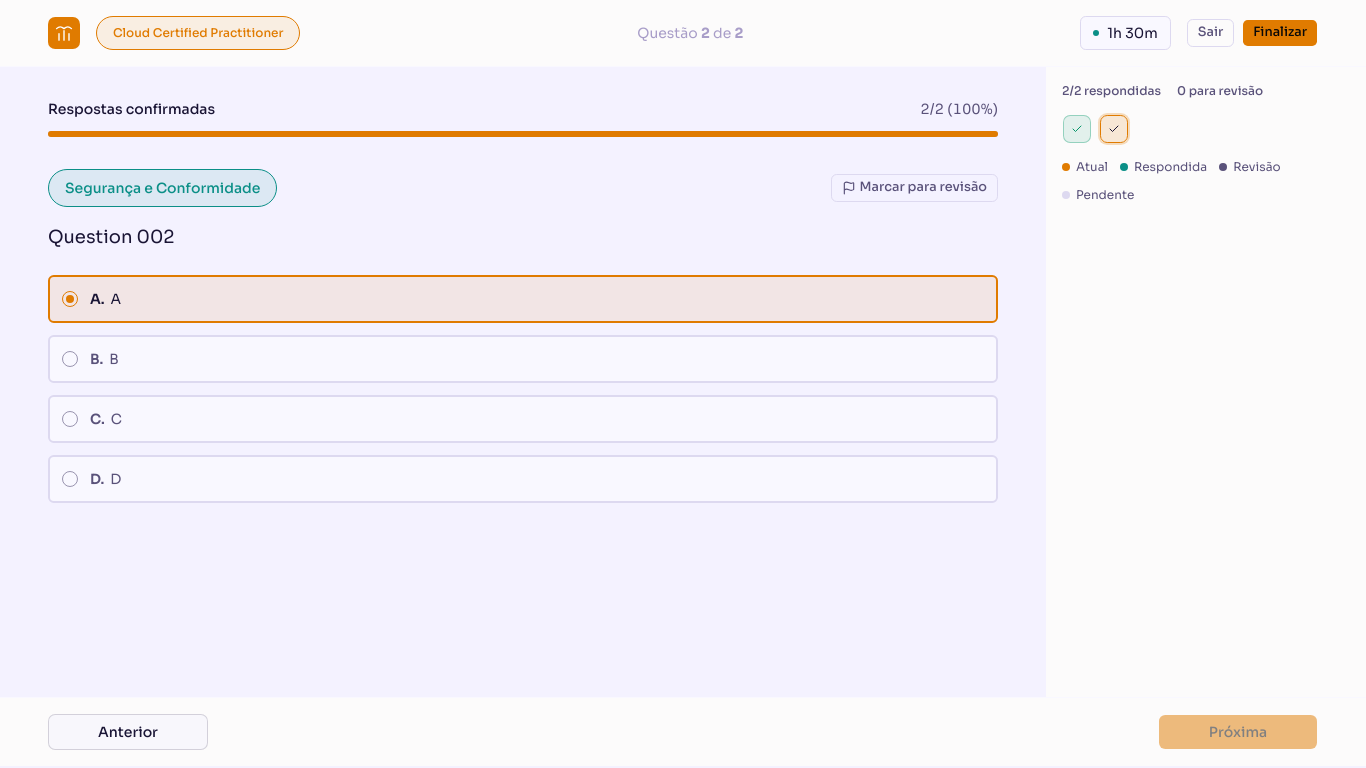
Test case: QuizLayout › permite alterar resposta anterior em modo simulado
This screenshot has width=1366, height=768.
Click the button "Anterior" at (128, 732), box [48,714,208,750]
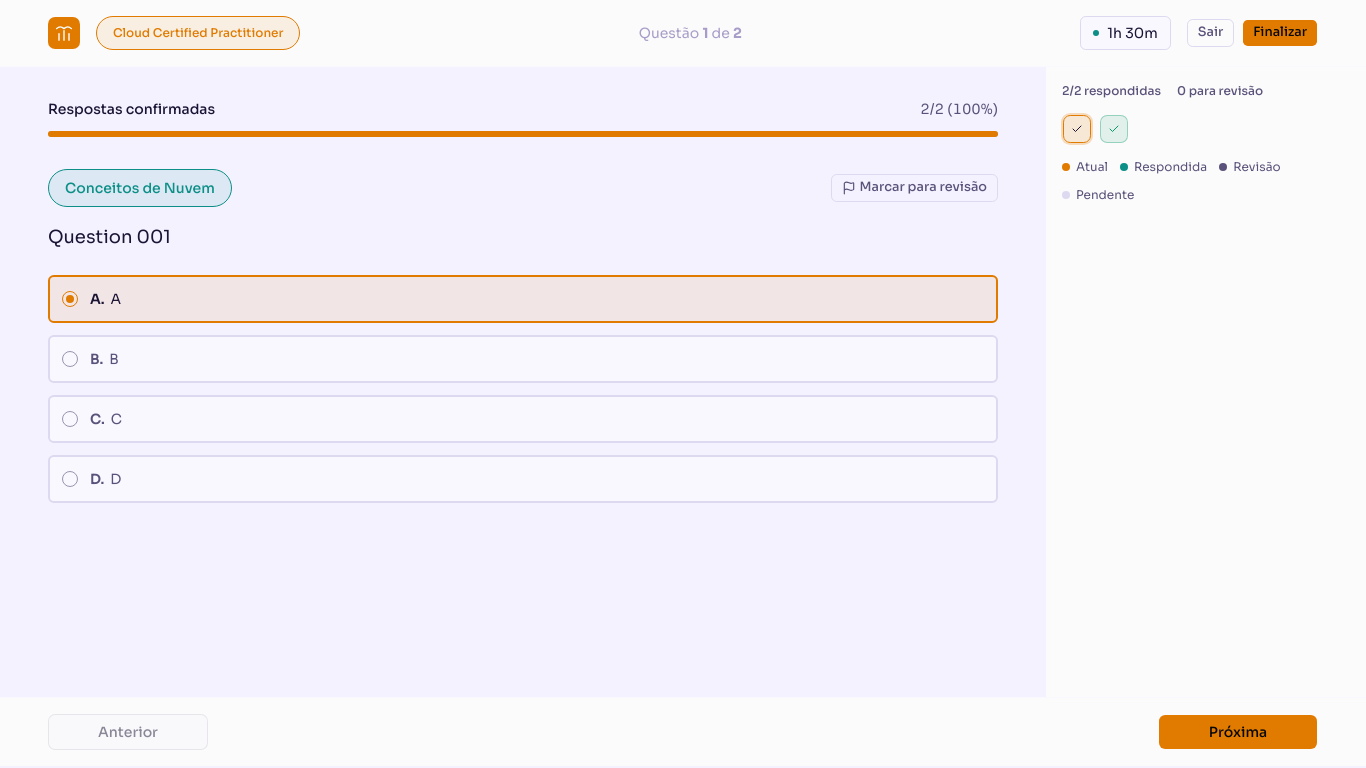
Click the radio button labelled "b. B" at (70, 359), box [48,335,998,383]
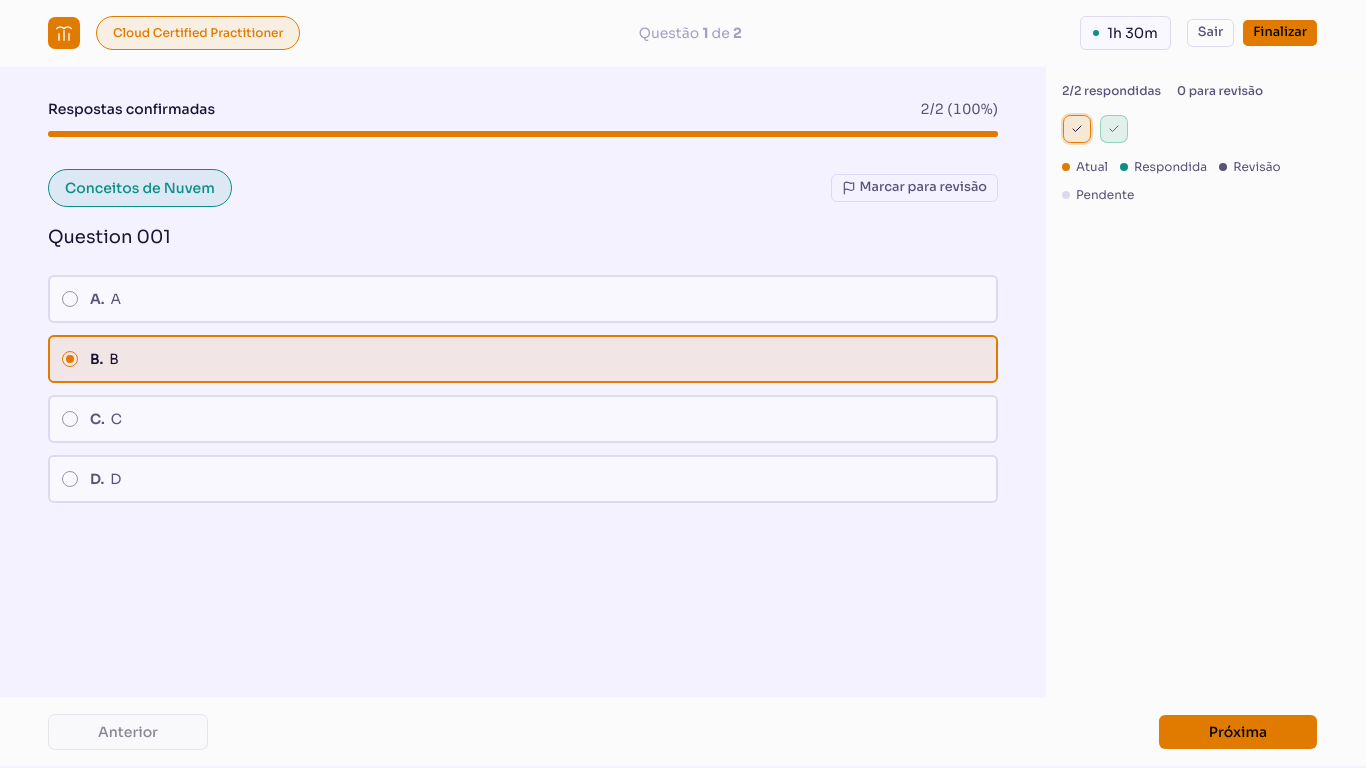
Expected: the radio button labelled "b. B" is checked, [48,335,998,383]
Expected: the radio button labelled "a. A" is not checked, [48,275,998,323]
